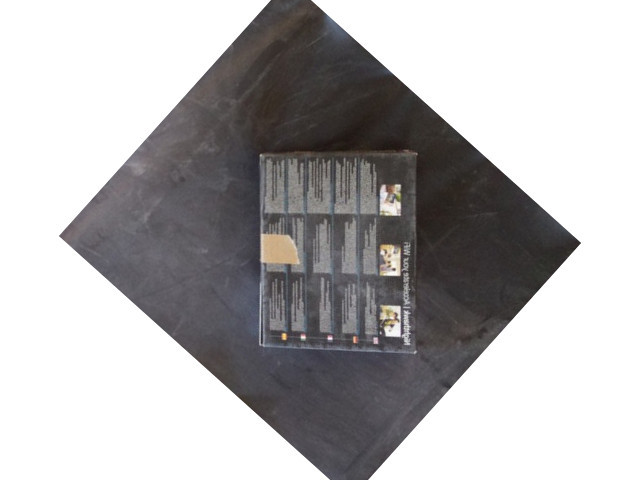cardboard: (262, 149, 417, 350)
